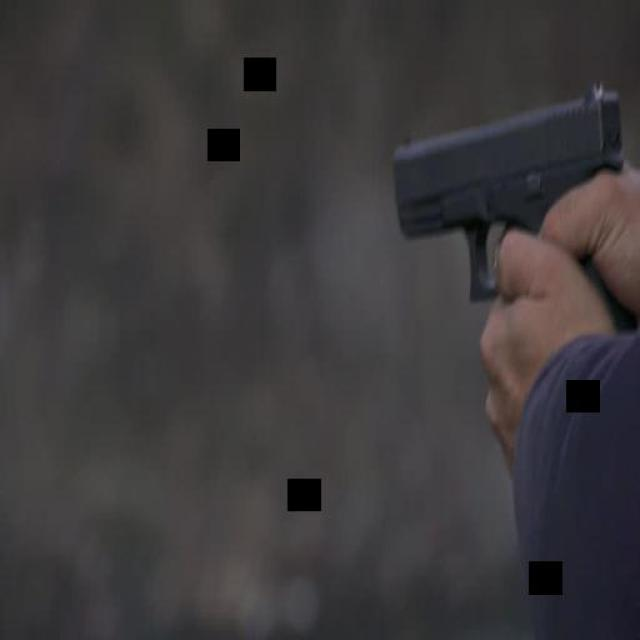gun: (387, 81, 622, 306)
